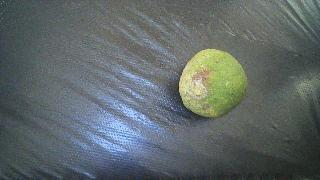DESECHO: (179, 49, 248, 117)
